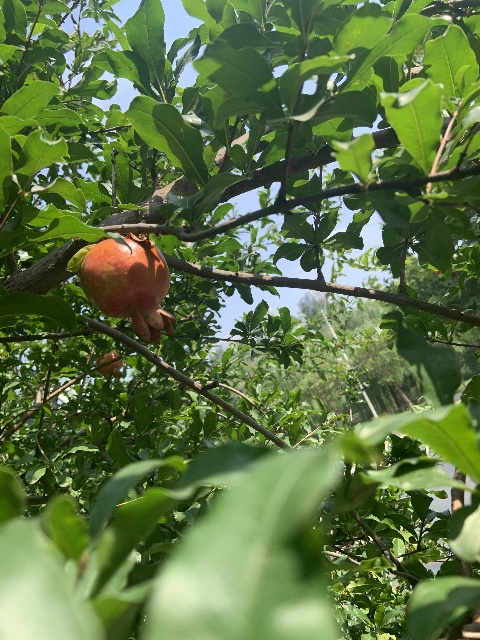ripe: (80, 237, 176, 345), (95, 350, 123, 379)
